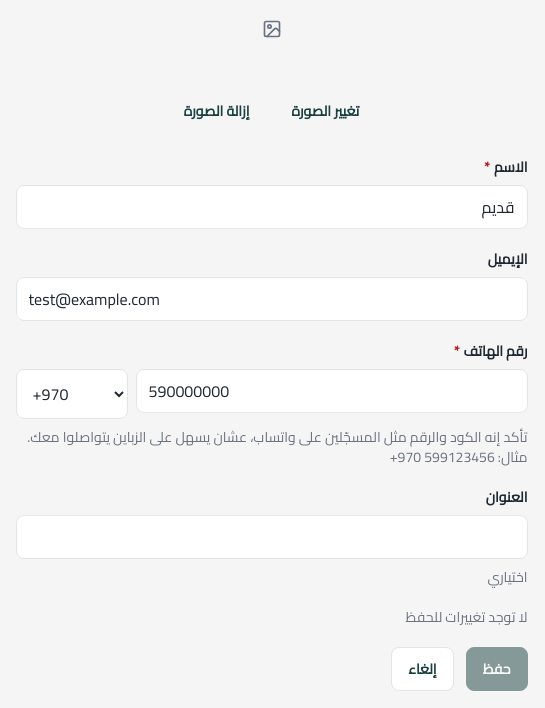
Test: renders backend errors on the form and cancels local avatar removal
Later steps or results of the test are not shown.
What coordinates should you click on to do the following:
click the button "إزالة الصورة"
I would click on:
 (217, 111)
Its box is [167,89,267,133].
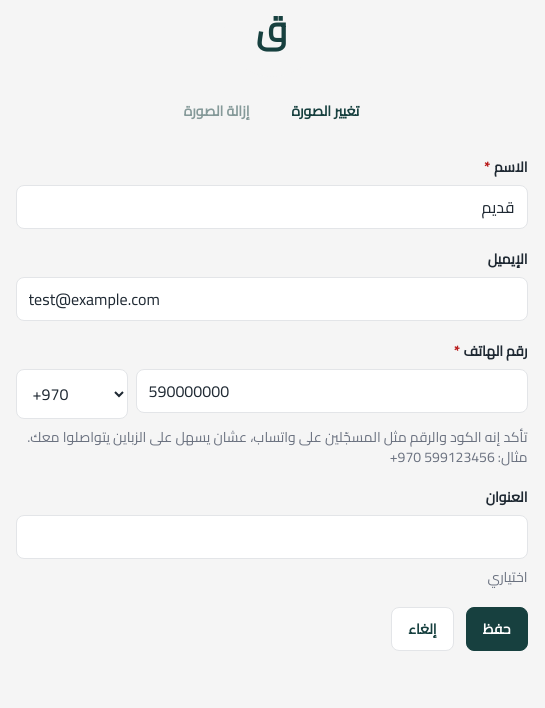
What coordinates should you click on to do the following:
click the button "حفظ"
I would click on:
 (497, 629)
Its box is [466,607,528,651].
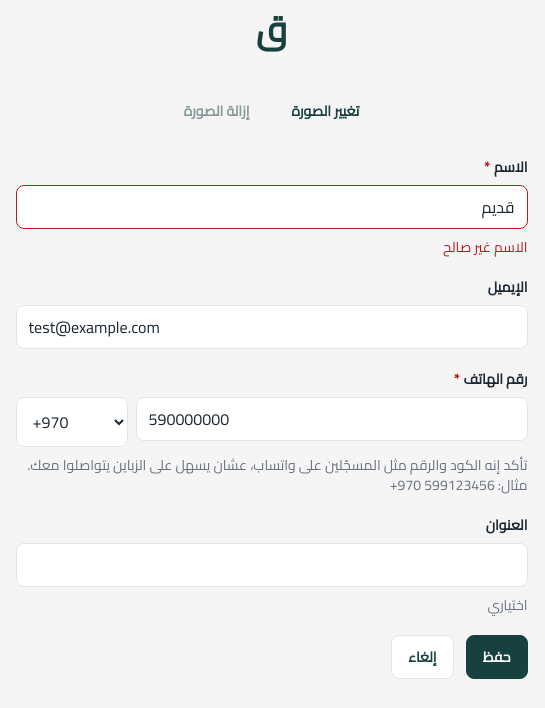
Expected: the button "إلغاء" is enabled, [391,635,454,679]
Expected: the text "الاسم غير صالح" is shown, [443,234,528,260]
